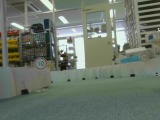speed_10: (33, 56, 47, 70), (139, 52, 149, 62)
